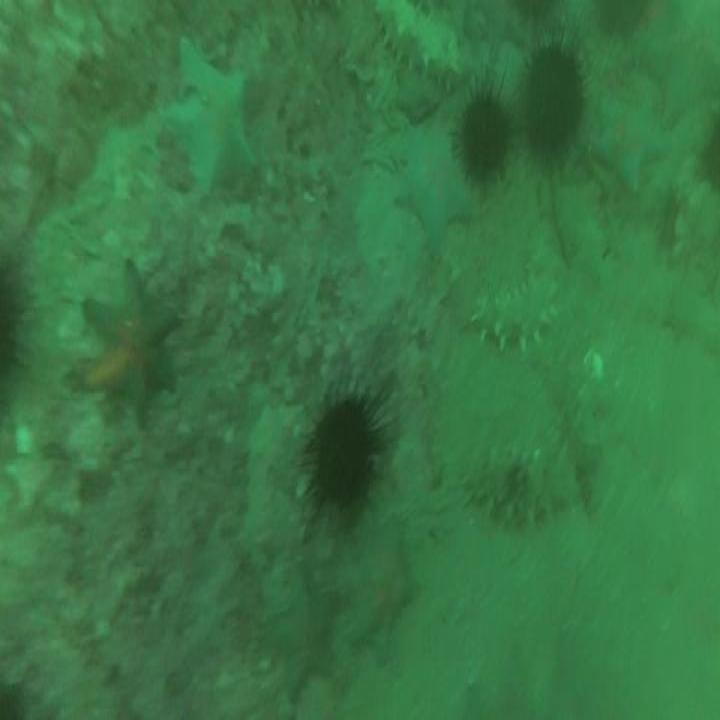echinus: (312, 400, 374, 505), (525, 45, 583, 151), (458, 89, 510, 171)
holothurian: (462, 436, 572, 530), (473, 238, 561, 352), (376, 0, 464, 85)
starfish: (79, 265, 179, 423), (167, 35, 258, 202), (341, 532, 415, 660), (397, 125, 471, 250), (274, 576, 340, 693), (598, 96, 667, 188)
